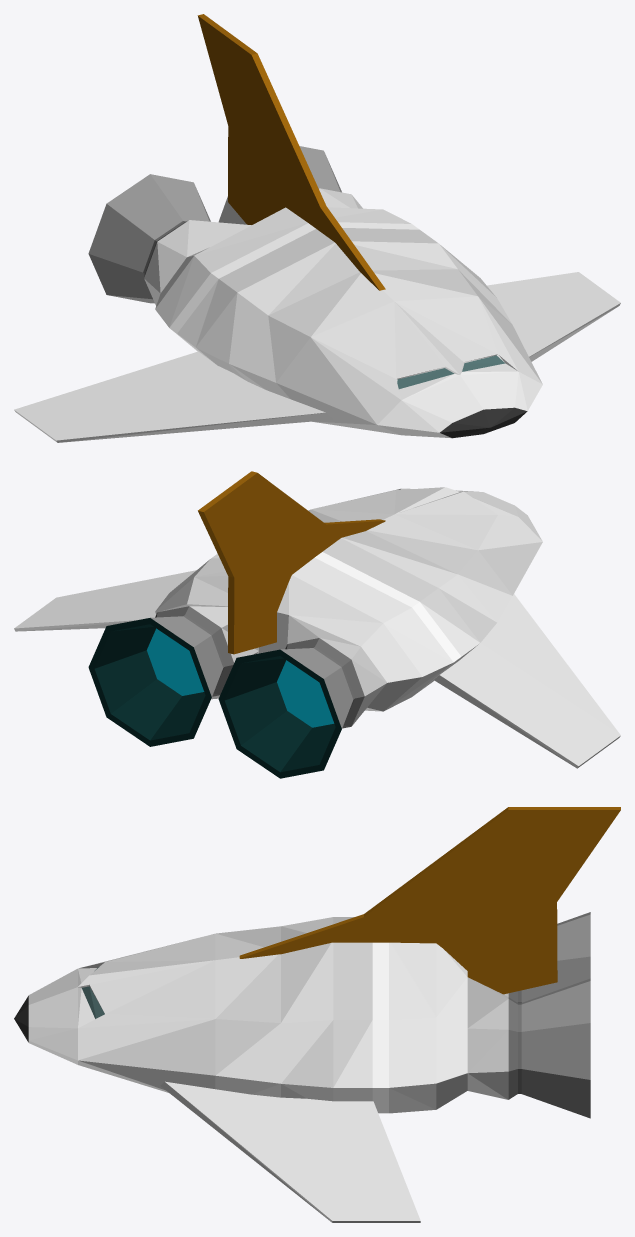
File: cargo_ship.dae
3 views of the same model, one above another, from view 1: azimuth 30°, elevation 25°; view 2: azimuth 150°, elevation 25°; view 3: azimuth 270°, elevation 25° (orthographic). The views are drawn at different scales.
Visible parts, largest first — view 1: cargo_ship; view 2: cargo_ship; view 3: cargo_ship.
Part boxes in pixels (box(x1,y1,x2,y2)): cargo_ship: box(14, 14, 620, 442); cargo_ship: box(14, 471, 620, 778); cargo_ship: box(14, 807, 620, 1222).
Size of the model in its own units: 10.59 by 9.41 by 4.69.
